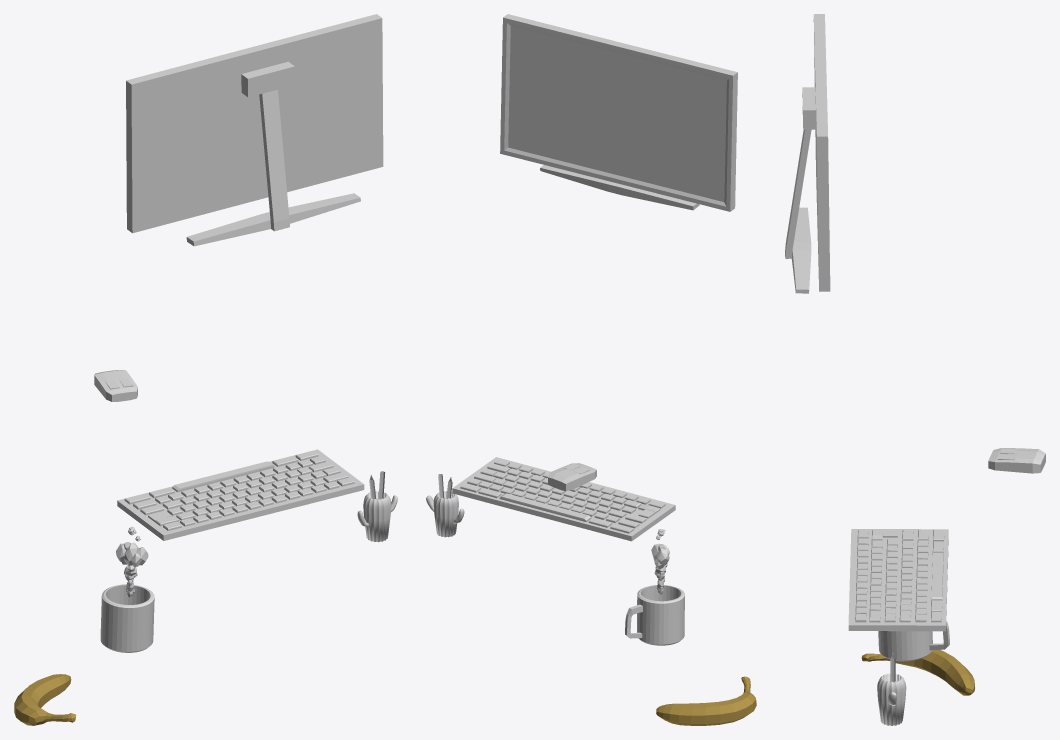
File: animazione.glb
3 views of the same model, side by side, from view 1: azimuth 30°, elevation 25°; view 2: azimuth 150°, elevation 25°; view 3: azimuth 270°, elevation 25° (orthographic). The views are drawn at different scales.
Visible parts, largest first — view 1: Cube.088, Cube.069, Cloud_4.007, Banana_Cube.038, Cylinder, mouse; view 2: Cube.088, Cube.069, Cloud_4.007, Banana_Cube.038, Cylinder, mouse; view 3: Cube.069, Cube.088, Cloud_4.007, Banana_Cube.038, Cylinder, mouse.
Boxes of the visible parts, x1,y1,x2,y2 form: Cube.088: [126, 14, 383, 246]; Cube.069: [117, 449, 364, 540]; Cloud_4.007: [100, 526, 154, 652]; Banana_Cube.038: [14, 674, 75, 725]; Cylinder: [357, 471, 397, 542]; mouse: [94, 370, 137, 401]; Cube.088: [500, 14, 737, 211]; Cube.069: [452, 457, 675, 541]; Cloud_4.007: [625, 529, 684, 645]; Banana_Cube.038: [656, 676, 756, 725]; Cylinder: [426, 474, 464, 537]; mouse: [548, 463, 596, 491]; Cube.069: [848, 529, 948, 631]; Cube.088: [785, 14, 830, 293]; Cloud_4.007: [878, 620, 949, 661]; Banana_Cube.038: [861, 650, 974, 695]; Cylinder: [877, 653, 906, 725]; mouse: [988, 448, 1045, 473].
Size of the model in its own units: 78.17 by 135 by 46.67.
